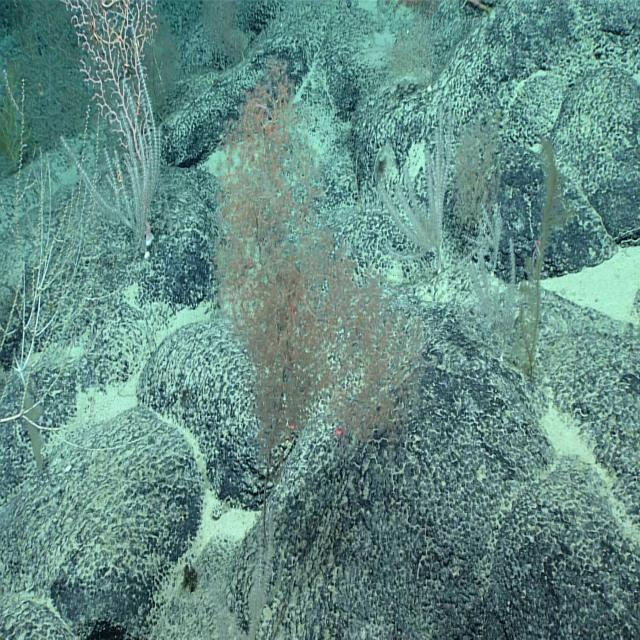Brittle Star: (111, 161, 126, 199)
Not Brittle Star: (54, 16, 166, 266), (370, 87, 459, 280), (463, 227, 520, 369), (452, 194, 506, 283), (528, 234, 544, 285)
